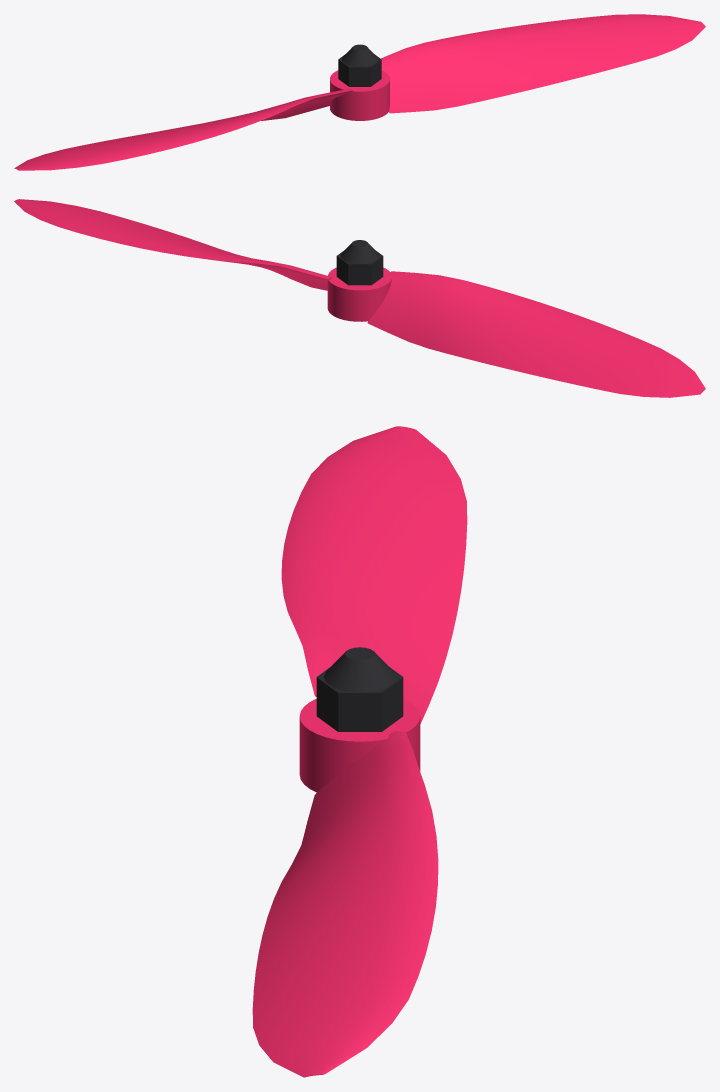
Rendered from prop_7035_2b.glb.
The picture shows the model from 3 angles, top to bottom: view 1: azimuth 30°, elevation 25°; view 2: azimuth 150°, elevation 25°; view 3: azimuth 270°, elevation 25°; orthographic projection. The views are drawn at different scales.
Visible parts, largest first — view 1: prop_7035_2b_M_Prop_7035_2b, prop_7035_2b_M_Nut; view 2: prop_7035_2b_M_Prop_7035_2b, prop_7035_2b_M_Nut; view 3: prop_7035_2b_M_Prop_7035_2b, prop_7035_2b_M_Nut.
Part boxes in pixels (x1,y1,x2,y2): prop_7035_2b_M_Prop_7035_2b: [14, 14, 705, 170]; prop_7035_2b_M_Nut: [338, 44, 381, 86]; prop_7035_2b_M_Prop_7035_2b: [14, 199, 705, 397]; prop_7035_2b_M_Nut: [336, 240, 383, 285]; prop_7035_2b_M_Prop_7035_2b: [252, 426, 467, 1077]; prop_7035_2b_M_Nut: [316, 647, 403, 731].
Bounding box in the file's own units: 0.1778 × 0.017 × 0.0249.
